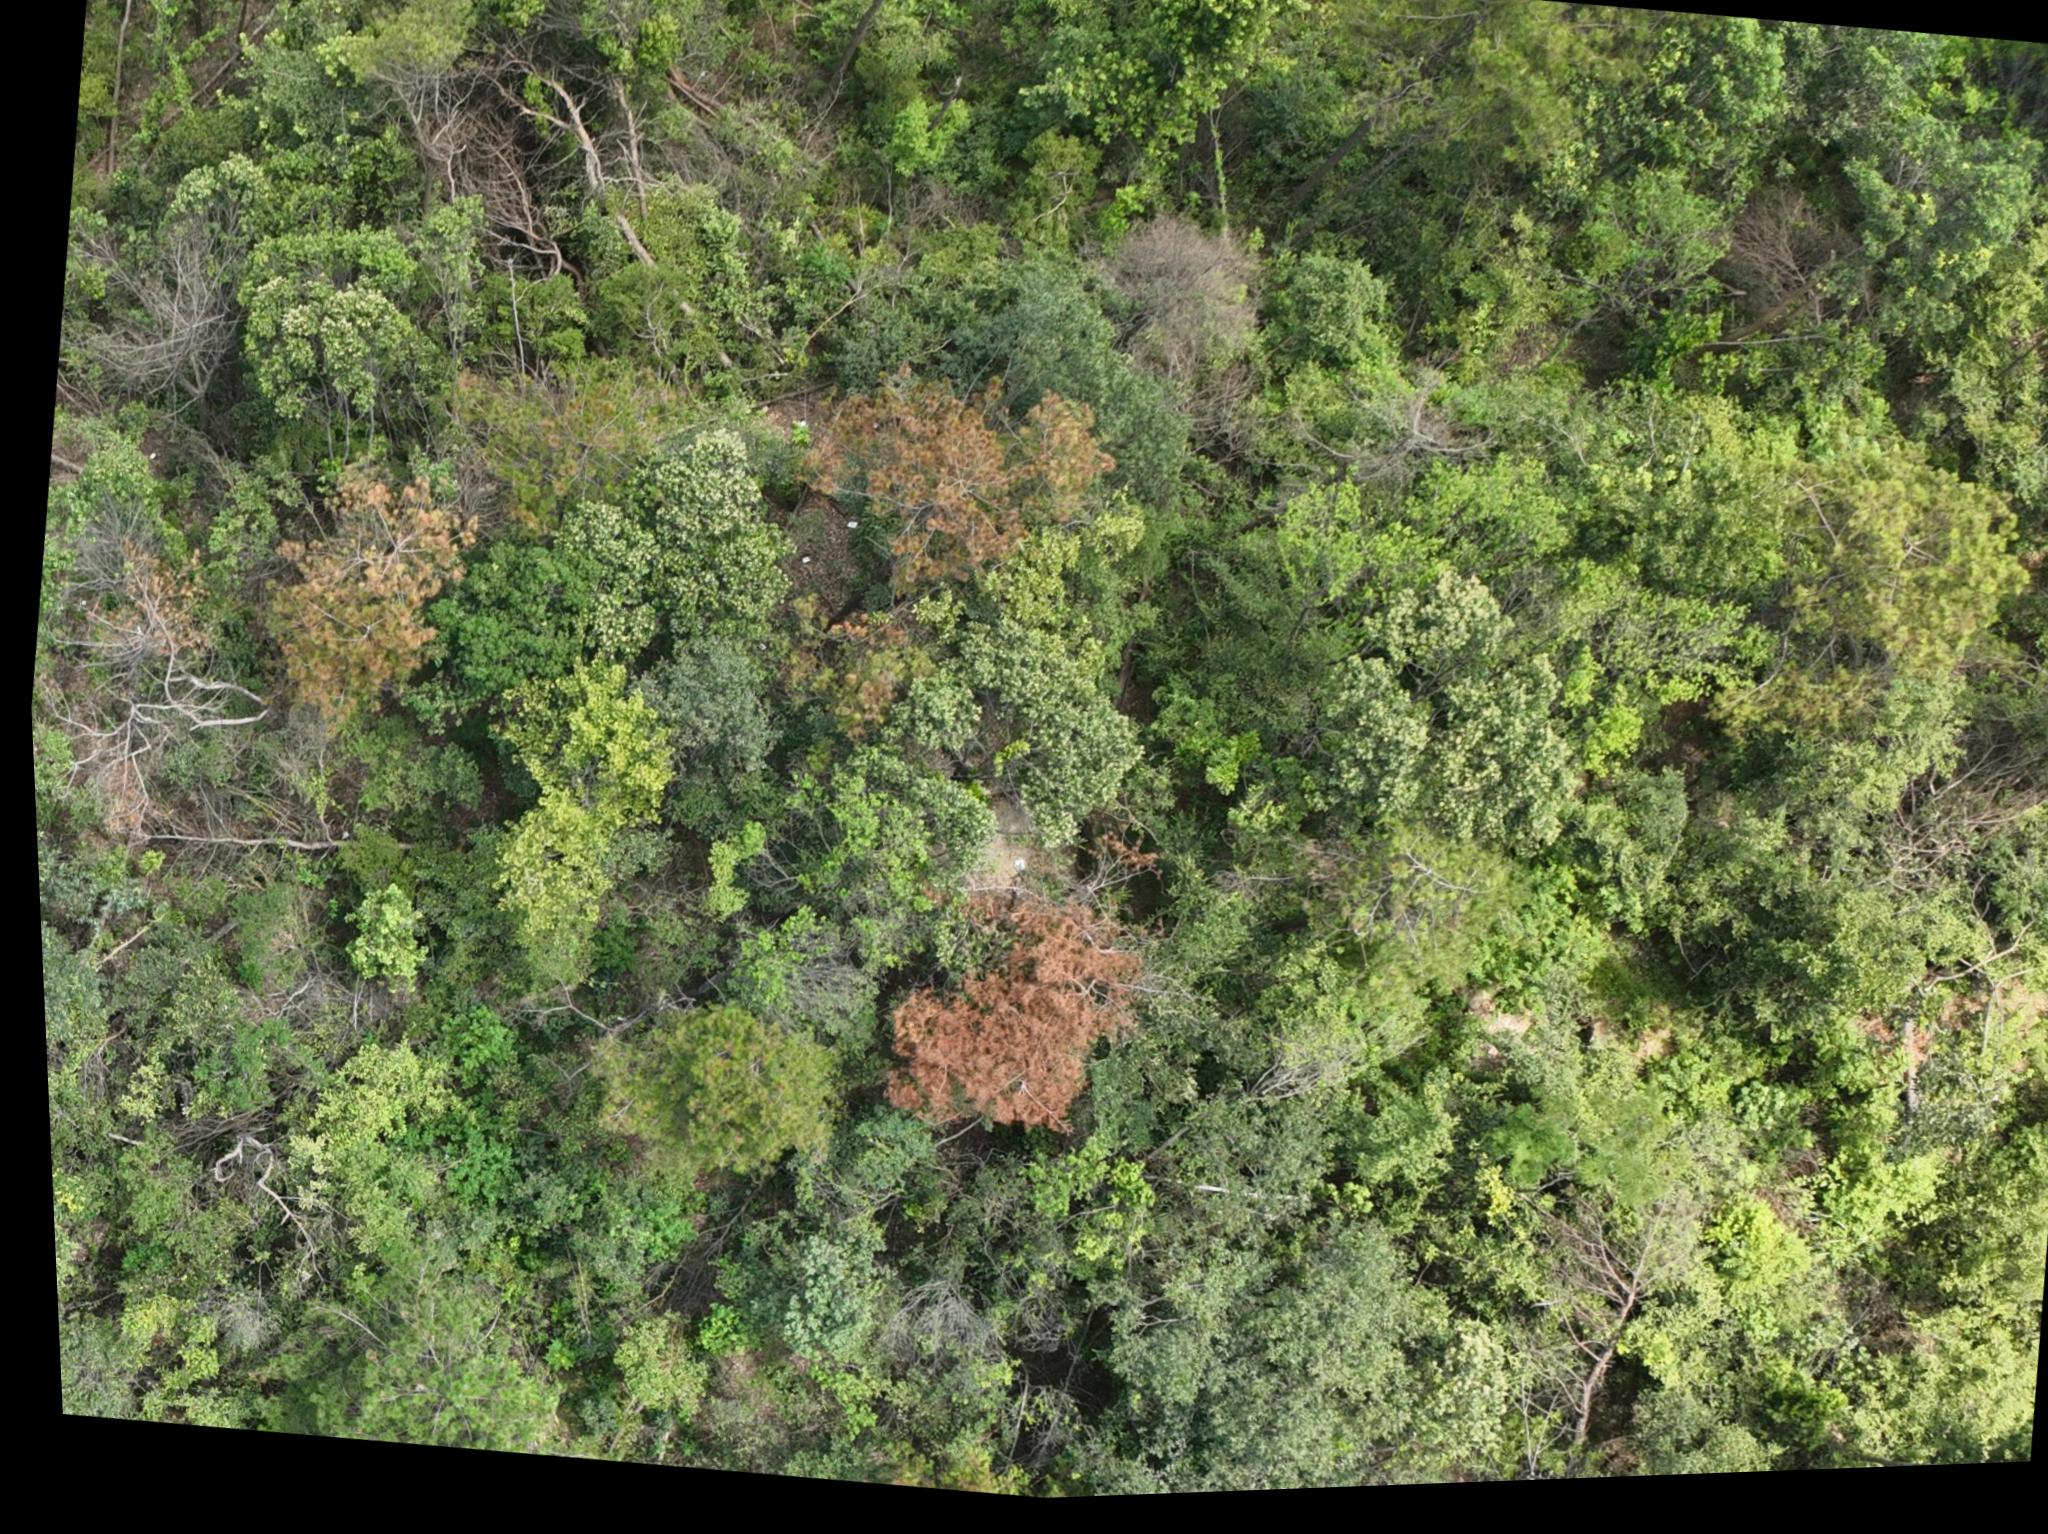dead: (1092, 209, 1283, 379)
heavy: (864, 869, 1171, 1175), (809, 371, 1112, 604), (253, 483, 464, 732)
